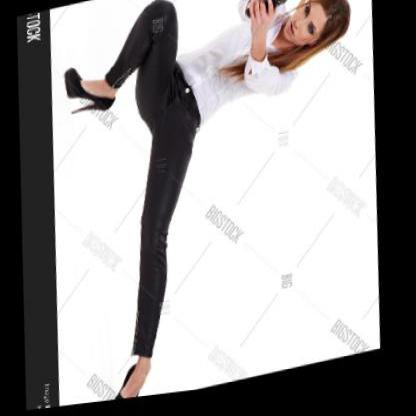pistol: (245, 0, 291, 25)
